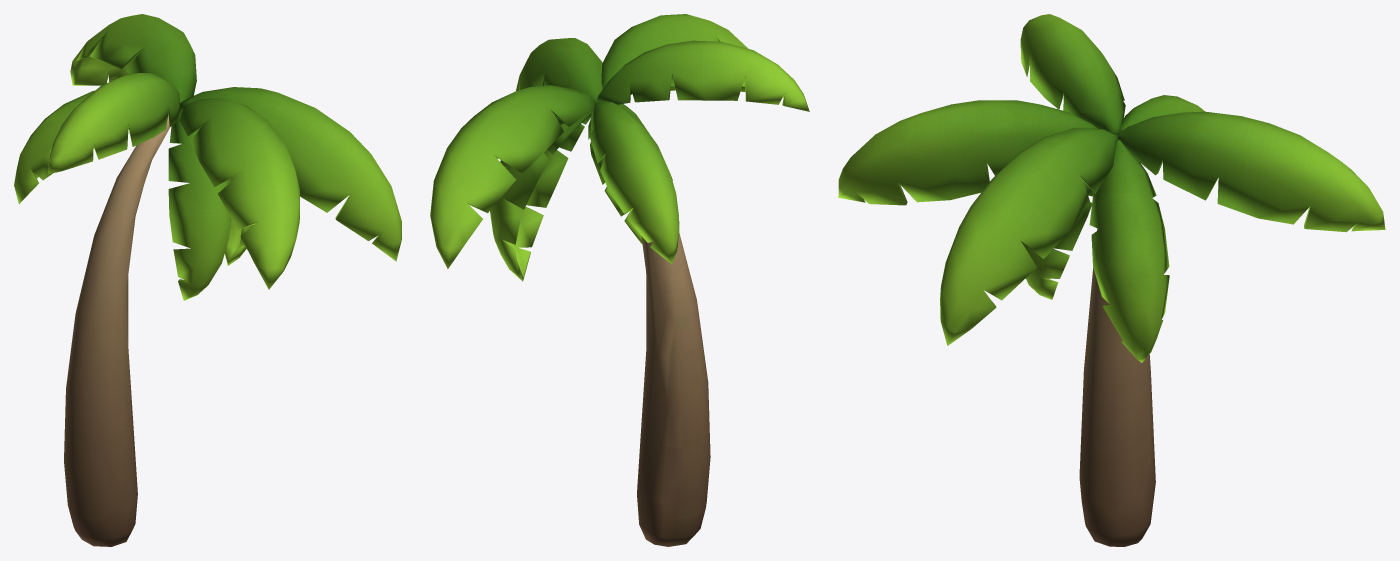
Rendered from tree.fbx.
The picture shows the model from 3 angles, left to right: view 1: azimuth 30°, elevation 25°; view 2: azimuth 150°, elevation 25°; view 3: azimuth 270°, elevation 25°; orthographic projection. The views are drawn at different scales.
Visible parts, largest first — view 1: model_0.013; view 2: model_0.013; view 3: model_0.013.
Part boxes in pixels (x1=…): model_0.013: x1=14, y1=14, x2=401, y2=546; model_0.013: x1=430, y1=14, x2=809, y2=546; model_0.013: x1=838, y1=14, x2=1385, y2=546.
Size of the model in its own units: 326 by 470 by 461.
1 material, 1 textured.
